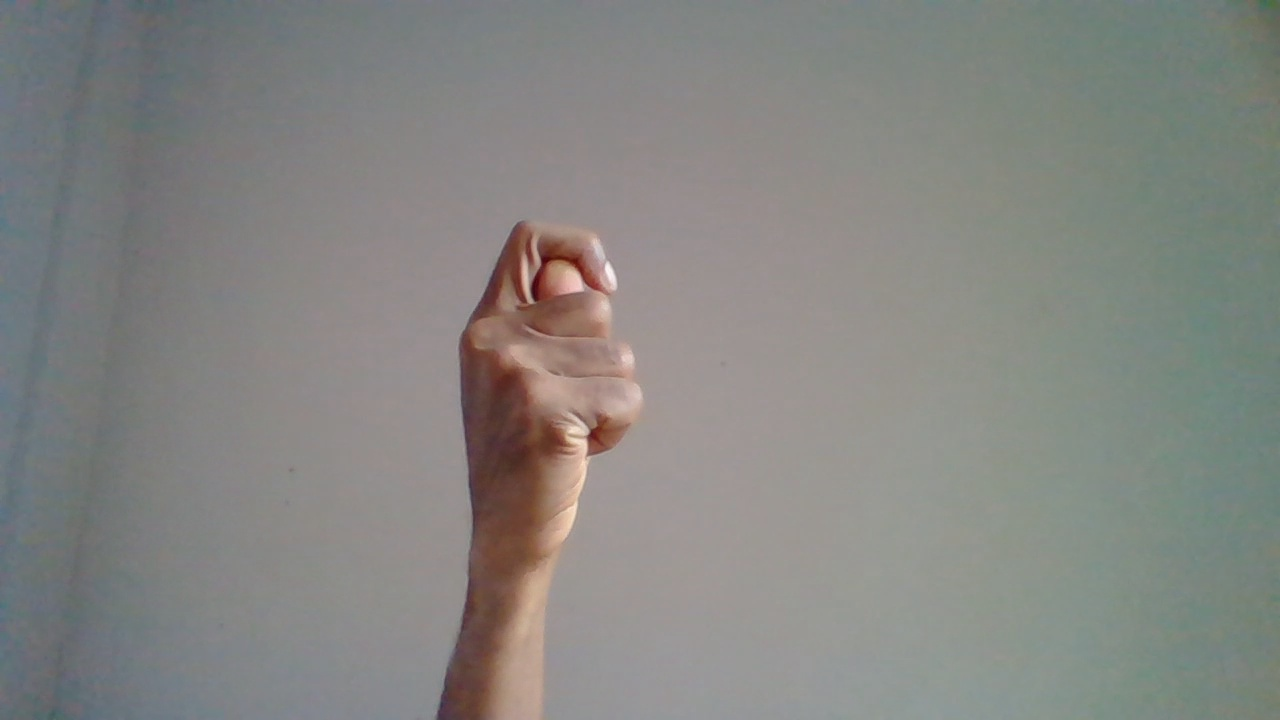che: (451, 214, 648, 706)
